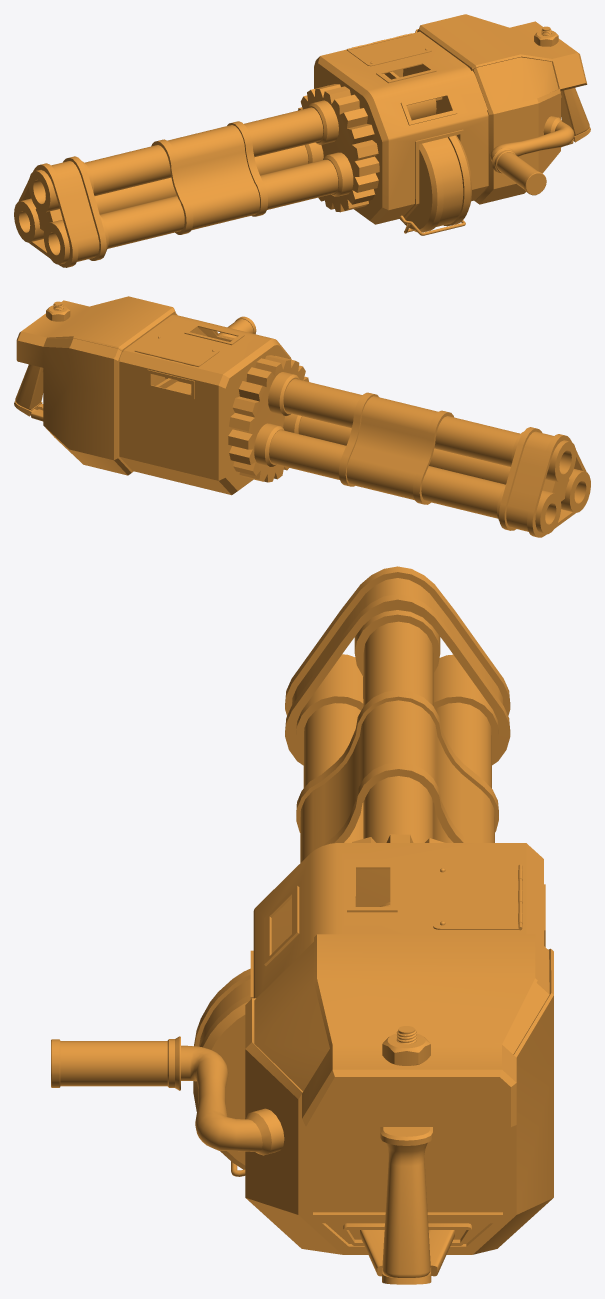
File: Den_minik (1).fbx
The picture shows the model from 3 angles, top to bottom: view 1: azimuth 30°, elevation 25°; view 2: azimuth 150°, elevation 25°; view 3: azimuth 270°, elevation 25°; orthographic projection. The views are drawn at different scales.
Visible parts, largest first — view 1: korpus_low, korpus2_low, detal2_dulo_low, dulo2_low, dulo1_low, detal_dulo_low, gear_low, magazin_low, dulo3_low, detal_dulo_2_low, zatvr_low, metal_ru_low (+8 smaller); view 2: korpus_low, korpus2_low, detal2_dulo_low, dulo3_low, dulo1_low, detal_dulo_low, gear_low, dulo2_low, detal_dulo_2_low, zatvr_low, handle_low, dulo1_osn_low (+2 smaller); view 3: korpus2_low, korpus_low, detal2_dulo_low, detal_dulo_low, dulo1_low, handle_low, zatvr_low, ru_derz_low, magazin_low, metal_ru_low, dulo2_low, dulo3_low (+6 smaller).
Part boxes in pixels (left/top/right/bottom): korpus_low: left=314, top=31, right=488, bottom=224; korpus2_low: left=415, top=14, right=587, bottom=204; detal2_dulo_low: left=151, top=121, right=267, bottom=234; dulo2_low: left=100, top=159, right=338, bottom=248; dulo1_low: left=84, top=107, right=323, bottom=195; detal_dulo_low: left=14, top=156, right=108, bottom=267; gear_low: left=298, top=84, right=379, bottom=212; magazin_low: left=400, top=135, right=471, bottom=232; dulo3_low: left=94, top=145, right=308, bottom=214; detal_dulo_2_low: left=51, top=161, right=99, bottom=261; zatvr_low: left=347, top=35, right=431, bottom=66; metal_ru_low: left=490, top=121, right=574, bottom=161; korpus_low: left=119, top=314, right=291, bottom=495; korpus2_low: left=16, top=296, right=177, bottom=475; detal2_dulo_low: left=339, top=392, right=453, bottom=504; dulo3_low: left=269, top=430, right=505, bottom=518; dulo1_low: left=283, top=379, right=520, bottom=466; detal_dulo_low: left=497, top=427, right=590, bottom=537; gear_low: left=228, top=355, right=308, bottom=482; dulo2_low: left=298, top=416, right=510, bottom=484; detal_dulo_2_low: left=506, top=431, right=553, bottom=531; zatvr_low: left=136, top=335, right=219, bottom=366; handle_low: left=15, top=364, right=43, bottom=409; dulo1_osn_low: left=268, top=372, right=299, bottom=415; korpus2_low: left=245, top=934, right=553, bottom=1254; korpus_low: left=250, top=843, right=545, bottom=999; detal2_dulo_low: left=296, top=690, right=498, bottom=862; detal_dulo_low: left=285, top=566, right=510, bottom=765; dulo1_low: left=363, top=621, right=433, bottom=842; handle_low: left=382, top=1142, right=430, bottom=1277; zatvr_low: left=433, top=866, right=518, bottom=929; ru_derz_low: left=60, top=1041, right=167, bottom=1086; magazin_low: left=193, top=968, right=250, bottom=1169; metal_ru_low: left=181, top=1045, right=262, bottom=1152; dulo2_low: left=303, top=703, right=363, bottom=842; dulo3_low: left=433, top=702, right=491, bottom=842.
Size of the model in its own units: 710 by 181 by 283.
